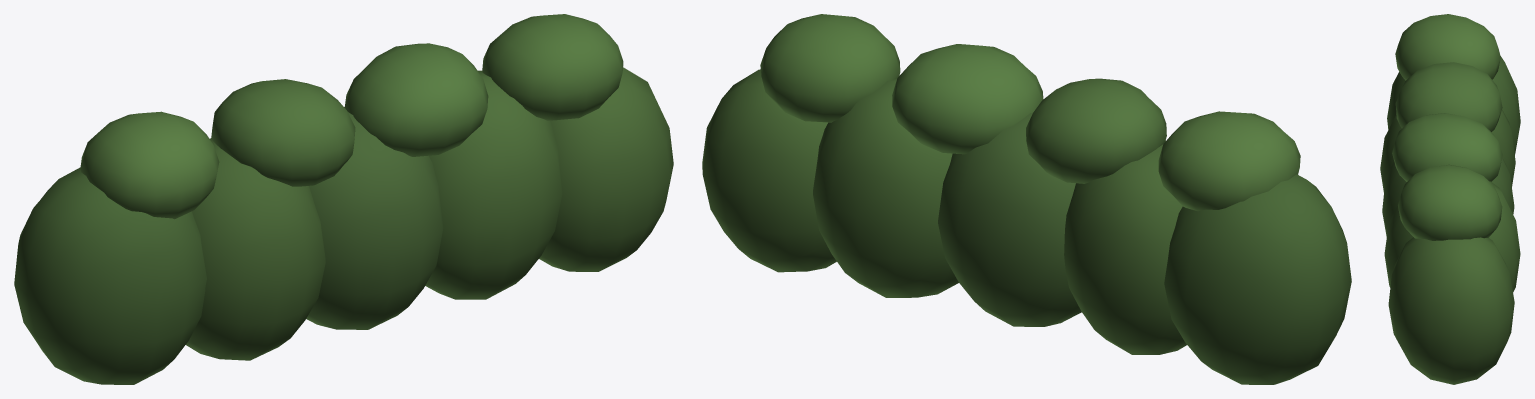
File: hedge.glb
The picture shows the model from 3 angles, left to right: view 1: azimuth 30°, elevation 25°; view 2: azimuth 150°, elevation 25°; view 3: azimuth 270°, elevation 25°; orthographic projection. The views are drawn at different scales.
Parts seen in each view (by area): view 1: body; view 2: body; view 3: body.
Boxes of the visible parts, <box> form: body: <box>14,14,673,384</box>; body: <box>702,14,1351,384</box>; body: <box>1380,14,1520,384</box>.
Size of the model in its own units: 3.32 by 1.27 by 0.8293.
